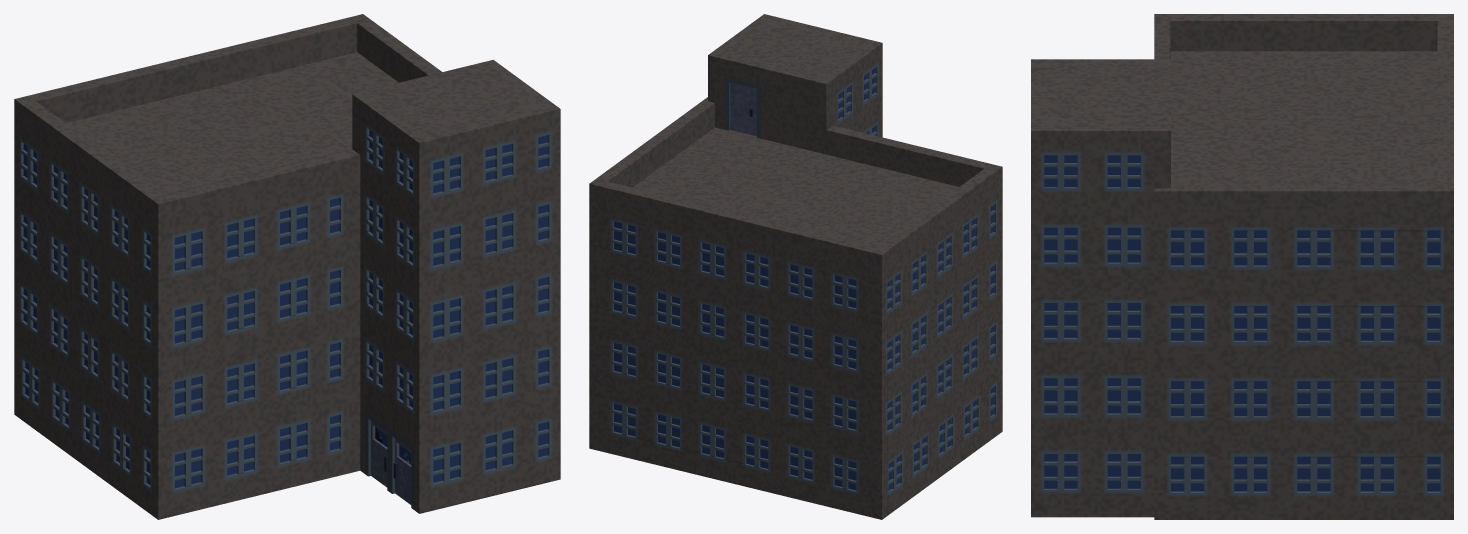
The model's file is b_dzielnia_big_100.dae.
3 renders of one model, left to right at view 1: azimuth 30°, elevation 25°; view 2: azimuth 150°, elevation 25°; view 3: azimuth 270°, elevation 25°, orthographic. The views are drawn at different scales.
Parts seen in each view (by area): view 1: Content; view 2: Content; view 3: Content.
Part boxes in pixels (bbox=[...]): Content: bbox=[14, 14, 560, 519]; Content: bbox=[589, 14, 1002, 519]; Content: bbox=[1031, 14, 1453, 519].
Size of the model in its own units: 126 by 128 by 127.
Materials: 1 (1 with a texture image).
